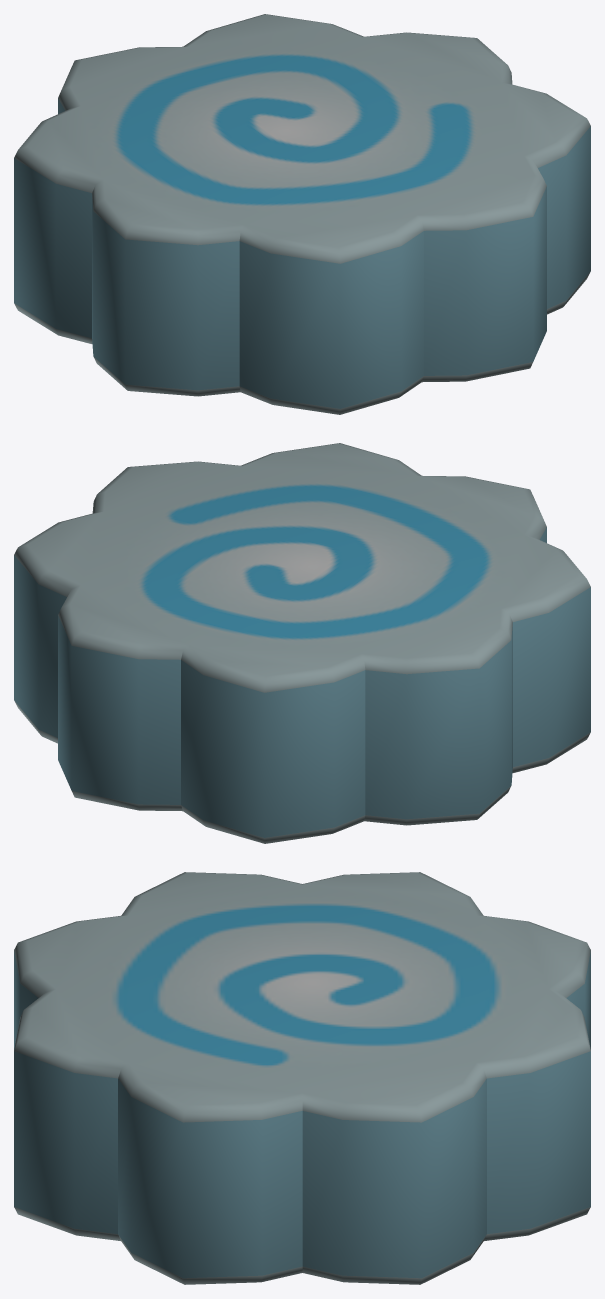
File: Naruto.glb
The picture shows the model from 3 angles, top to bottom: view 1: azimuth 30°, elevation 25°; view 2: azimuth 150°, elevation 25°; view 3: azimuth 270°, elevation 25°; orthographic projection. The views are drawn at different scales.
Parts seen in each view (by area): view 1: geometry_0; view 2: geometry_0; view 3: geometry_0.
Boxes of the visible parts, x1=… form: geometry_0: x1=14, y1=14, x2=590, y2=414; geometry_0: x1=14, y1=443, x2=590, y2=843; geometry_0: x1=14, y1=872, x2=590, y2=1284.
Size of the model in its own units: 0.054 by 0.0185 by 0.054.
1 material, 1 textured.
